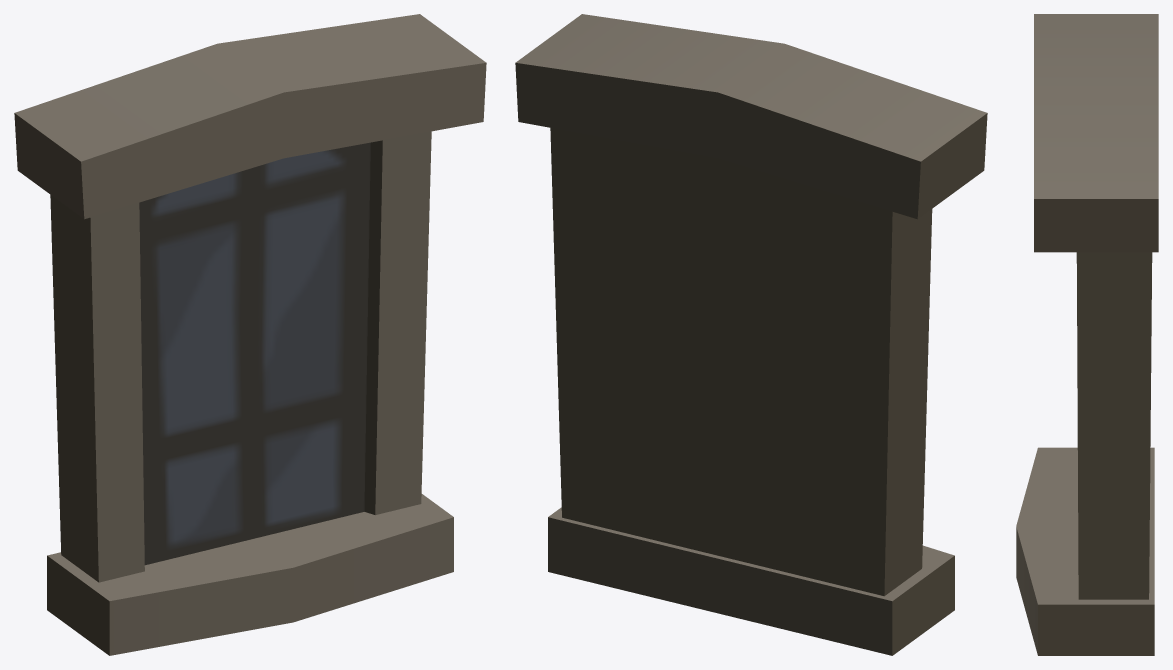
Rendered from Window_C02.fbx.
3 views of the same model, side by side, from view 1: azimuth 30°, elevation 25°; view 2: azimuth 150°, elevation 25°; view 3: azimuth 270°, elevation 25° (orthographic). The views are drawn at different scales.
Parts seen in each view (by area): view 1: Window_C02; view 2: Window_C02; view 3: Window_C02.
Part boxes in pixels (x1=…): Window_C02: x1=14, y1=14, x2=486, y2=655; Window_C02: x1=515, y1=14, x2=987, y2=655; Window_C02: x1=1016, y1=14, x2=1158, y2=655.
Bounding box in the file's own units: 158 × 195 × 51.42.
